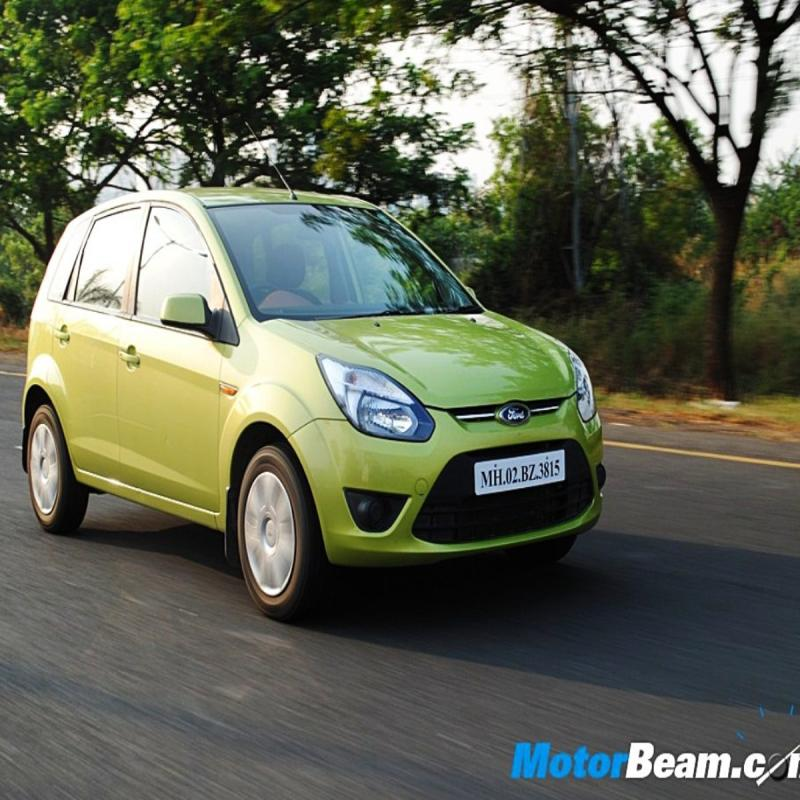car: (24, 172, 665, 607)
